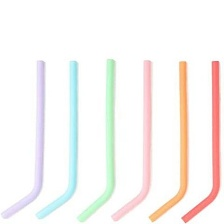drinking_straw: (145, 58, 198, 224), (0, 57, 51, 224), (72, 56, 119, 224)
